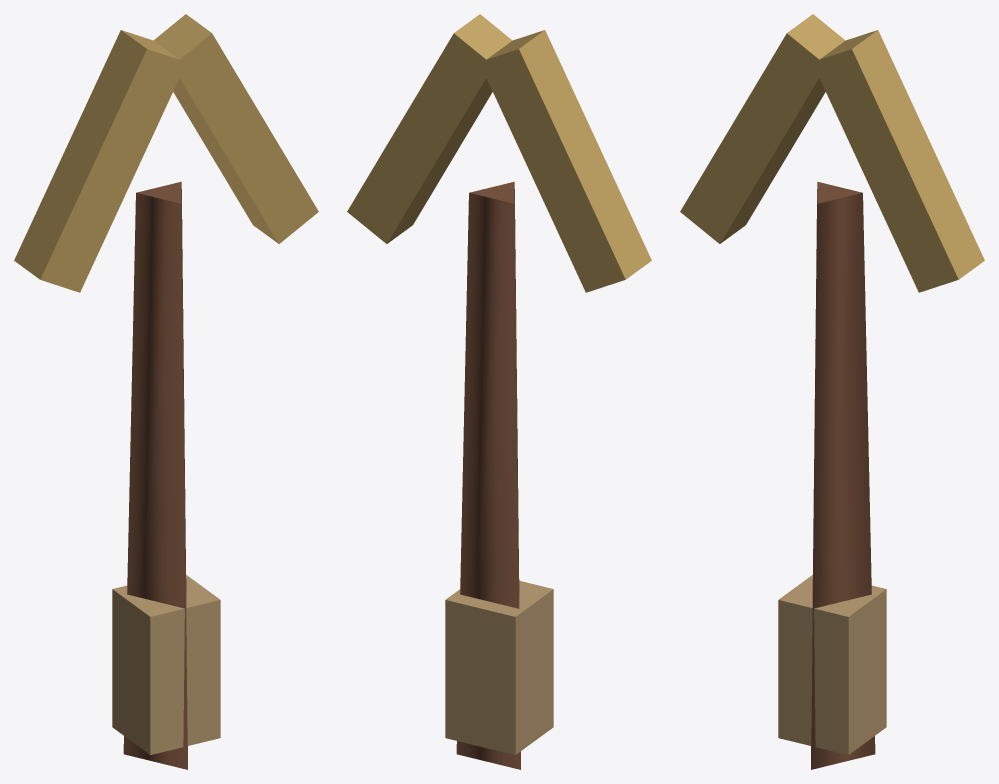
The model's file is wand-0-lod2.glb.
The picture shows the model from 3 angles, left to right: view 1: azimuth 30°, elevation 25°; view 2: azimuth 150°, elevation 25°; view 3: azimuth 330°, elevation 25°; orthographic projection.
Visible parts, largest first — view 1: piece_whole; view 2: piece_whole; view 3: piece_whole.
Boxes of the visible parts, box(x1,y1,x2,y2) form: piece_whole: box(14, 14, 318, 769); piece_whole: box(347, 14, 651, 769); piece_whole: box(680, 14, 984, 769).
Bounding box in the file's own units: 0.3377 × 0.8367 × 0.085.
